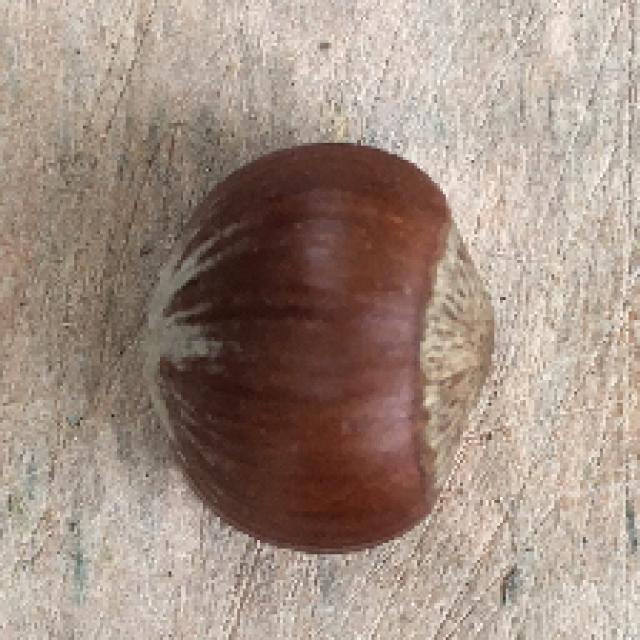qualityHazelnut: (132, 139, 500, 559)
